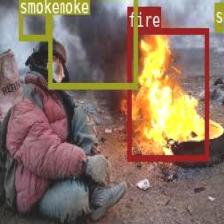fire: (127, 27, 208, 160)
smoke: (48, 0, 137, 88), (18, 0, 48, 39), (213, 1, 224, 29)
